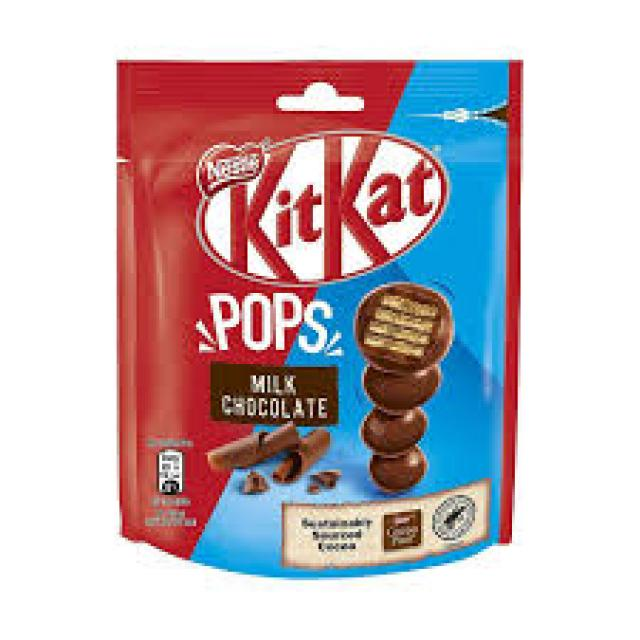kitkat: (113, 56, 513, 577)
